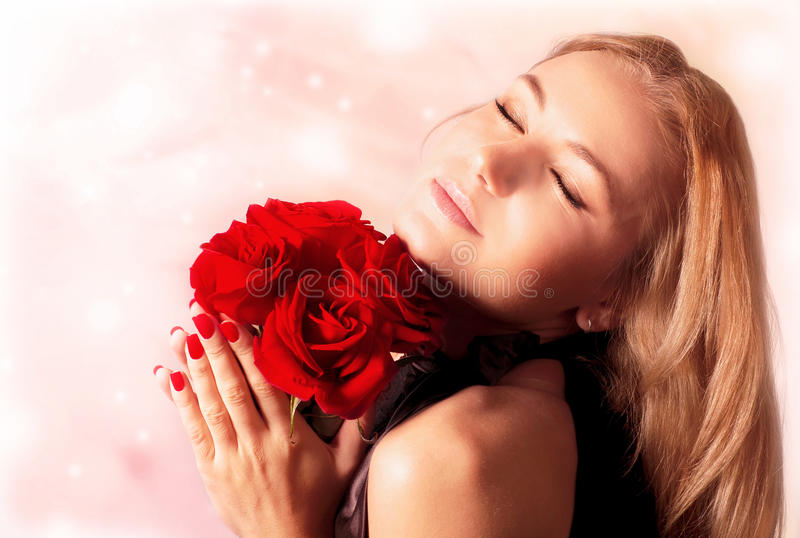RedRose: (253, 269, 396, 425), (335, 227, 449, 361), (189, 217, 289, 332), (236, 187, 366, 272)
